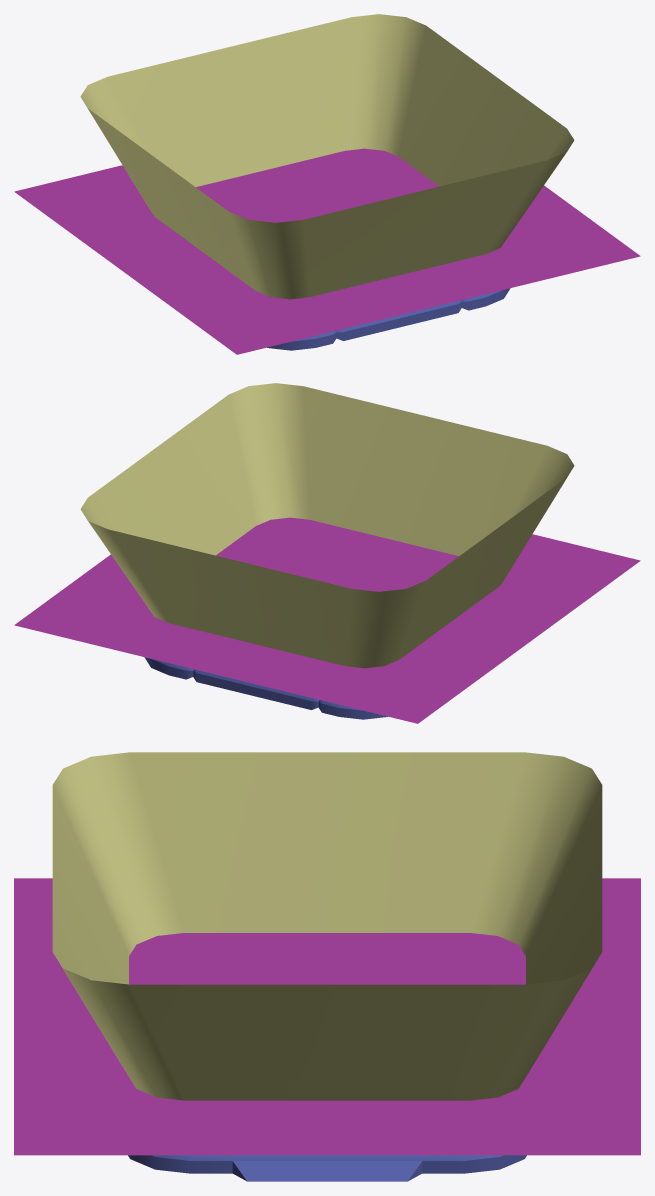
Rendered from obj_light_arealight_on.fbx.
3 renders of one model, top to bottom at view 1: azimuth 30°, elevation 25°; view 2: azimuth 150°, elevation 25°; view 3: azimuth 270°, elevation 25°, orthographic. The views are drawn at different scales.
Parts seen in each view (by area): view 1: obj_light_arealight_on1; view 2: obj_light_arealight_on1; view 3: obj_light_arealight_on1.
Part boxes in pixels (x1=…): obj_light_arealight_on1: x1=14, y1=14, x2=640, y2=354; obj_light_arealight_on1: x1=14, y1=383, x2=640, y2=723; obj_light_arealight_on1: x1=14, y1=752, x2=640, y2=1181.
Size of the model in its own units: 9.53 by 3.49 by 9.11.
